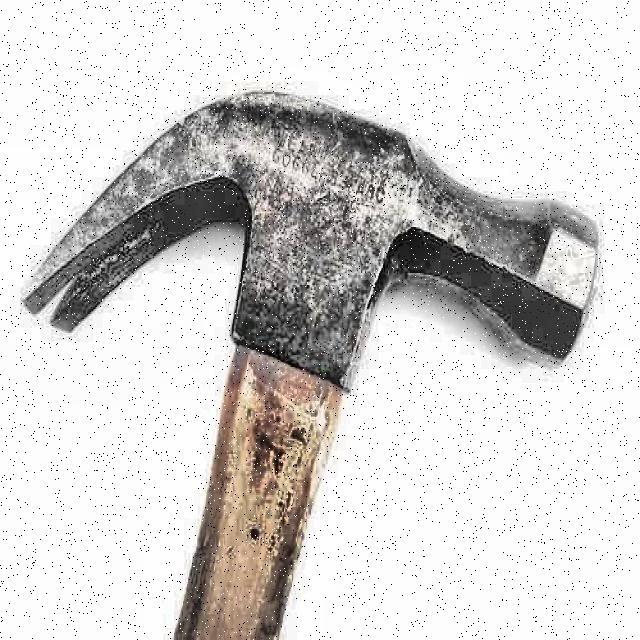hammer: (19, 86, 600, 640)
